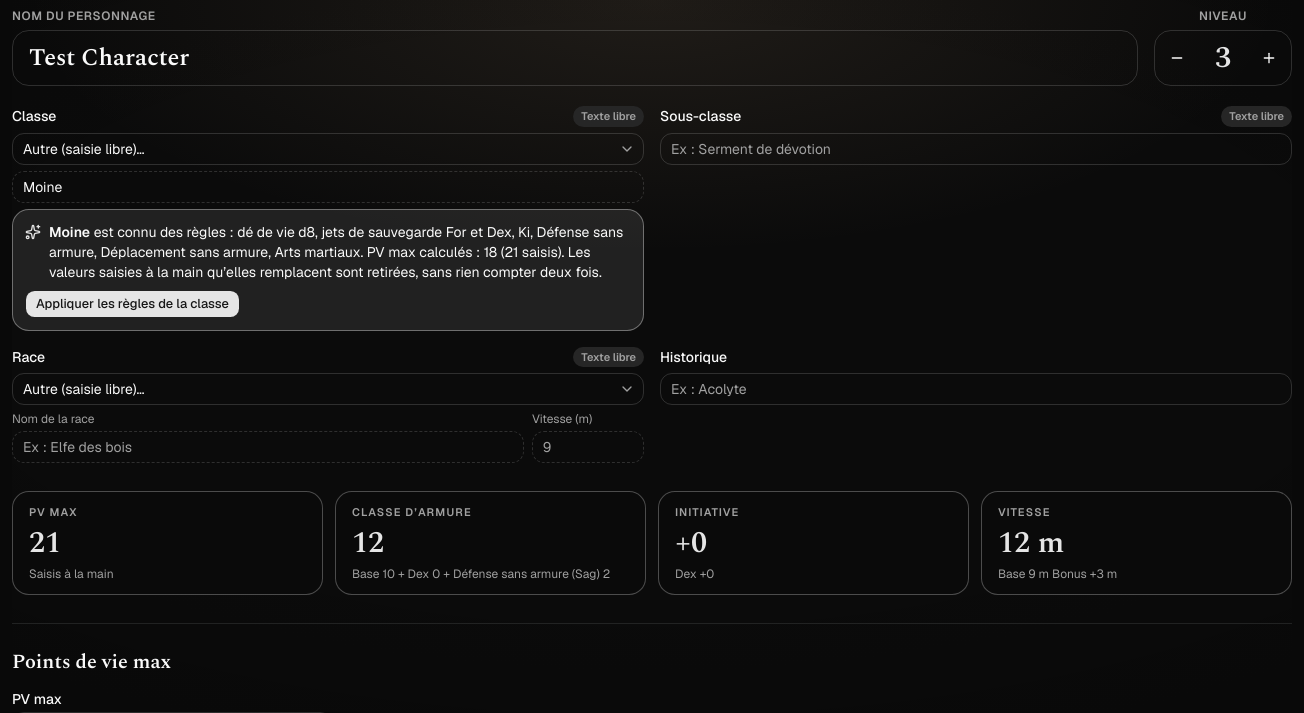
Test: GeneralTab › offers the rules of a known class typed as free text, without double counting
Check: the text "est connu des règles" shows "Moine est connu des règles : dé de vie d8, jets de sauvegarde For et Dex, Ki", box [49, 222, 631, 282]
Check: the text "est connu des règles" shows "PV max calculés : 18 (21 saisis).", box [49, 222, 631, 282]
Click the button "Appliquer les règles de la classe" at (132, 304), box [25, 290, 240, 318]
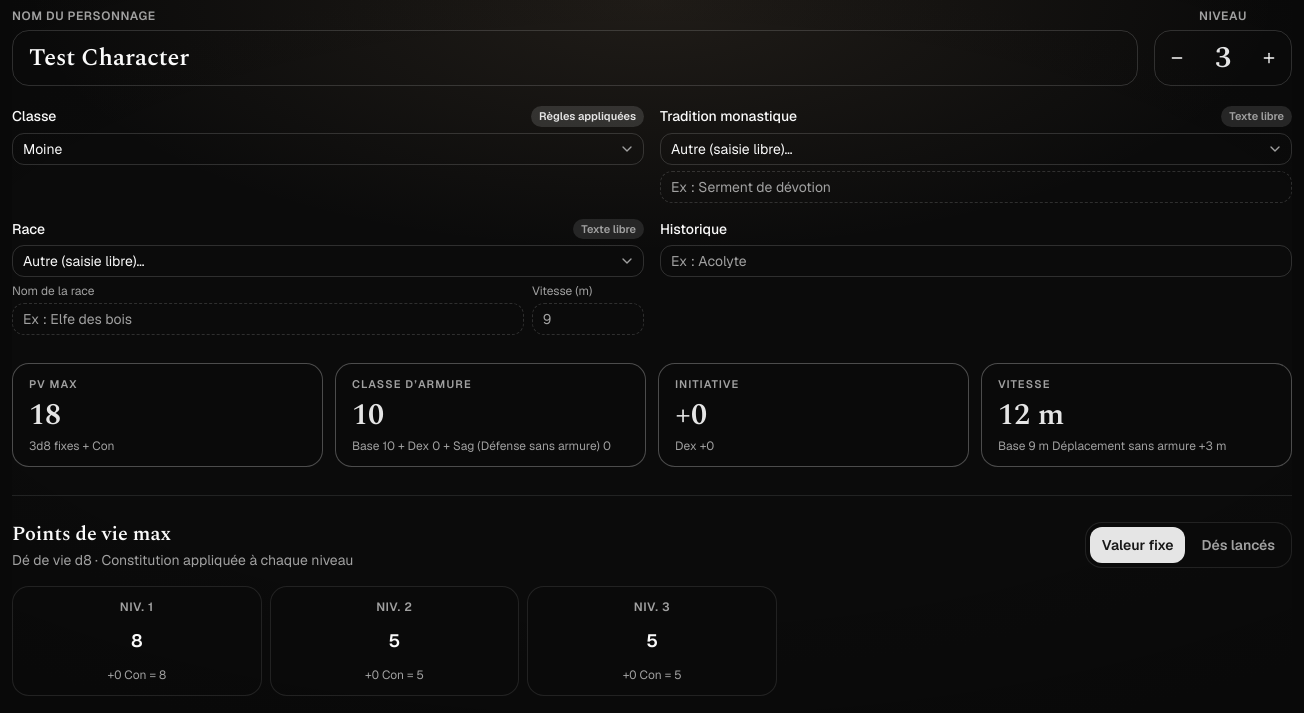
Check: the text "est connu des règles" is gone
